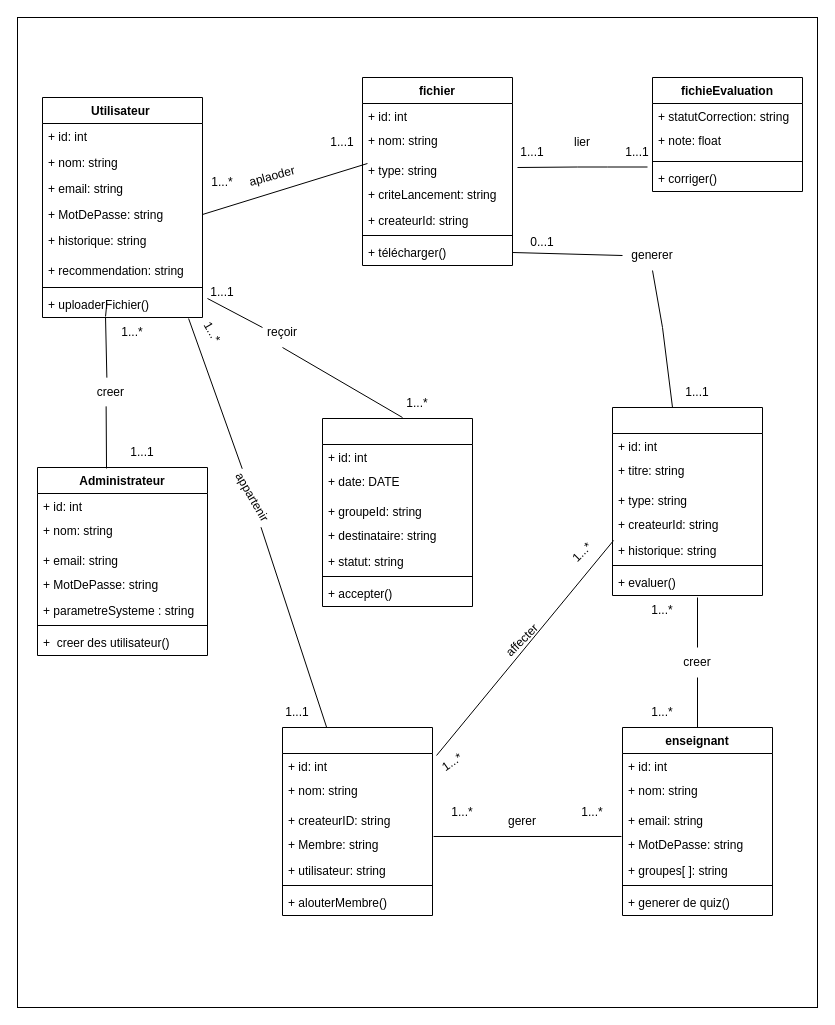
The diagram is 835 pixels wide and 1025 high, and some of its shapes have lost their labels. The shapes that lost their labels are listed below. From the top down, each one's box as (x1, y1, x2, y2) in pixels, then its label:
(322, 418, 472, 606): invatation
(612, 406, 762, 596): Quiz
(282, 726, 432, 916): groupe
